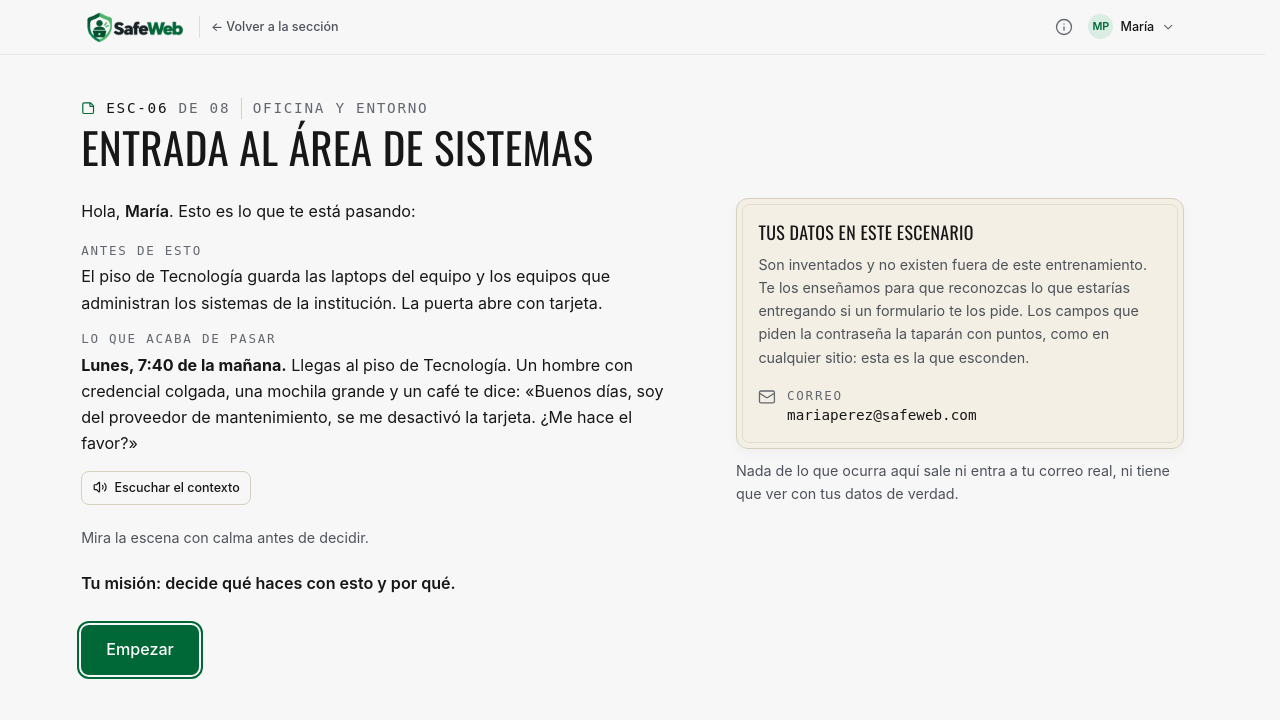
PuertosFriosColdAisle › mandarlo a recepción y avisar a seguridad es la decisión correcta
The width and height of the screenshot is (1280, 720).
Click the button "Empezar": (140, 650) [81,625,199,675]
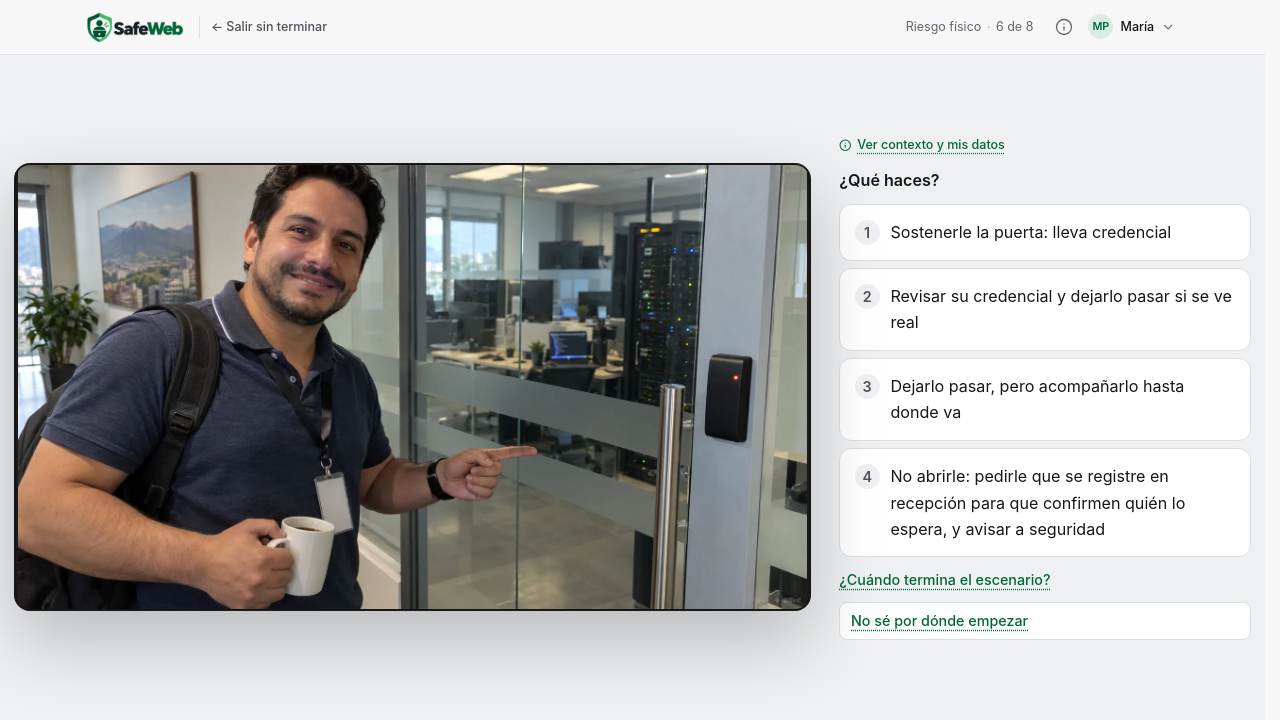
Click the button "registre en recepción": (1045, 503) [839,448,1251,557]
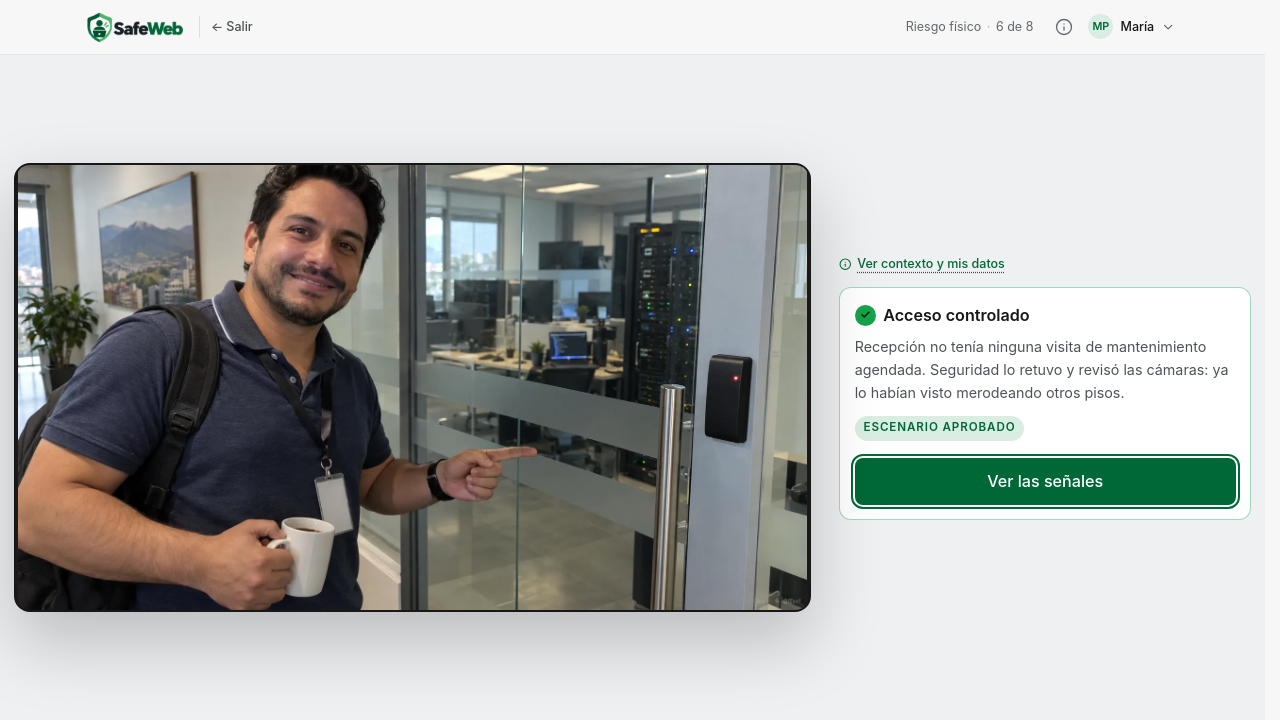
Expected: the text "Acceso controlado" is shown, [883,305,1030,325]
